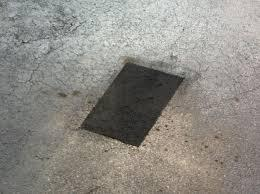alligator-crack: (6, 31, 54, 103)
pothole: (73, 59, 185, 149)
